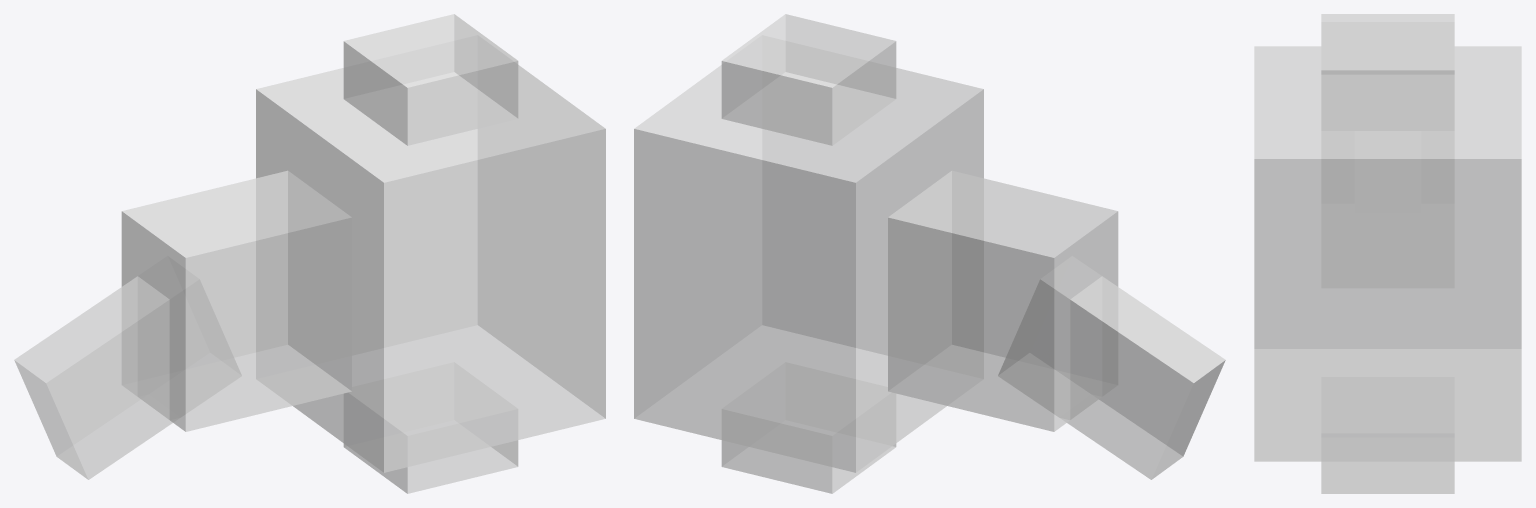
File: base_outline.obj
3 views of the same model, side by side, from view 1: azimuth 30°, elevation 25°; view 2: azimuth 150°, elevation 25°; view 3: azimuth 270°, elevation 25° (orthographic). The views are drawn at different scales.
Parts seen in each view (by area): view 1: cube4, cube2, cube3, cube1, cube; view 2: cube4, cube2, cube3, cube1, cube; view 3: cube4, cube2, cube1, cube.
Part boxes in pixels (bbox=[...]): cube4: bbox=[256, 35, 605, 472]; cube2: bbox=[121, 170, 351, 431]; cube3: bbox=[14, 256, 241, 479]; cube1: bbox=[343, 14, 518, 145]; cube: bbox=[343, 362, 518, 493]; cube4: bbox=[634, 35, 983, 472]; cube2: bbox=[888, 170, 1118, 431]; cube3: bbox=[998, 256, 1225, 479]; cube1: bbox=[721, 14, 896, 145]; cube: bbox=[721, 362, 896, 493]; cube4: bbox=[1254, 46, 1521, 461]; cube2: bbox=[1321, 22, 1454, 287]; cube1: bbox=[1321, 14, 1454, 130]; cube: bbox=[1321, 377, 1454, 493].
Size of the model in its own units: 0.6923 by 0.525 by 0.3.
